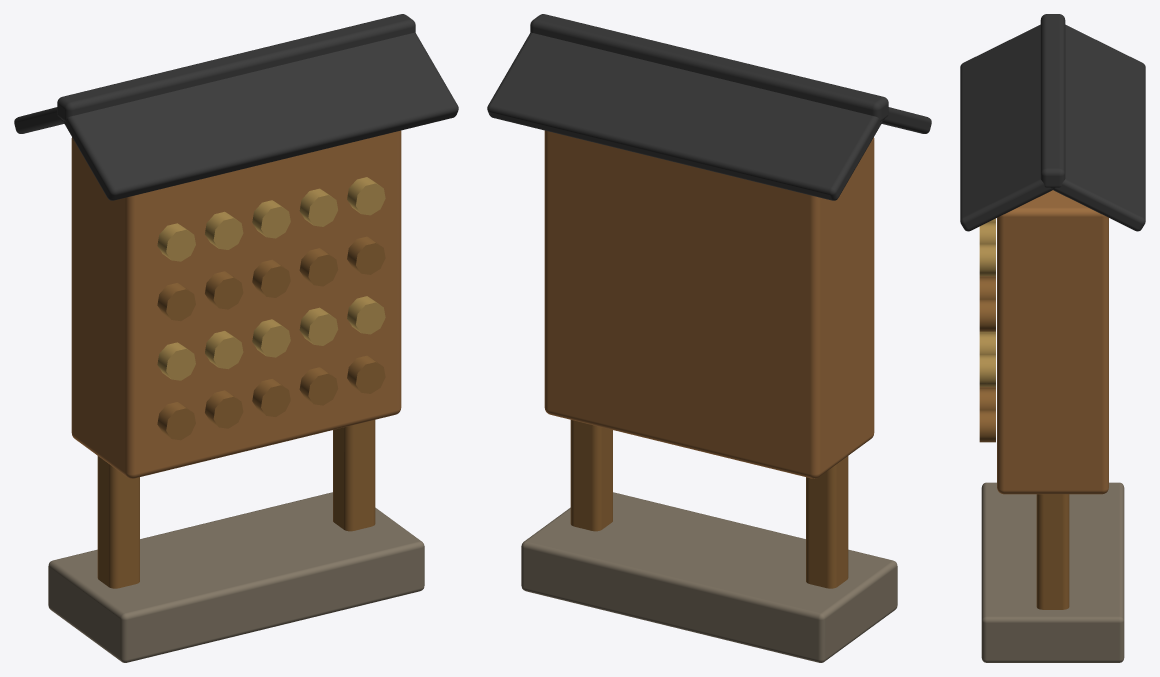
File: bee-hotel.glb
3 views of the same model, side by side, from view 1: azimuth 30°, elevation 25°; view 2: azimuth 150°, elevation 25°; view 3: azimuth 270°, elevation 25° (orthographic). The views are drawn at different scales.
Visible parts, largest first — view 1: bee-hotel-farm-wood, bee-hotel-farm-roof-slate, bee-hotel-farm-stone, bee-hotel-farm-wood-dark, bee-hotel-farm-thatch; view 2: bee-hotel-farm-wood, bee-hotel-farm-roof-slate, bee-hotel-farm-stone, bee-hotel-farm-wood-dark; view 3: bee-hotel-farm-wood, bee-hotel-farm-roof-slate, bee-hotel-farm-stone, bee-hotel-farm-wood-dark, bee-hotel-farm-thatch.
Boxes of the visible parts, box(x1,y1,x2,y2) form: bee-hotel-farm-wood: box(71, 130, 401, 478); bee-hotel-farm-roof-slate: box(14, 14, 458, 200); bee-hotel-farm-stone: box(48, 492, 424, 662); bee-hotel-farm-wood-dark: box(97, 236, 385, 588); bee-hotel-farm-thatch: box(157, 177, 385, 380); bee-hotel-farm-wood: box(544, 130, 874, 478); bee-hotel-farm-roof-slate: box(487, 14, 931, 200); bee-hotel-farm-stone: box(521, 492, 897, 662); bee-hotel-farm-wood-dark: box(570, 420, 848, 588); bee-hotel-farm-wood: box(997, 190, 1108, 494); bee-hotel-farm-roof-slate: box(960, 14, 1145, 231); bee-hotel-farm-stone: box(981, 482, 1124, 662); bee-hotel-farm-wood-dark: box(979, 276, 1069, 609); bee-hotel-farm-thatch: box(979, 218, 995, 386).
Size of the model in its own units: 1.85 by 2.73 by 0.9105.
